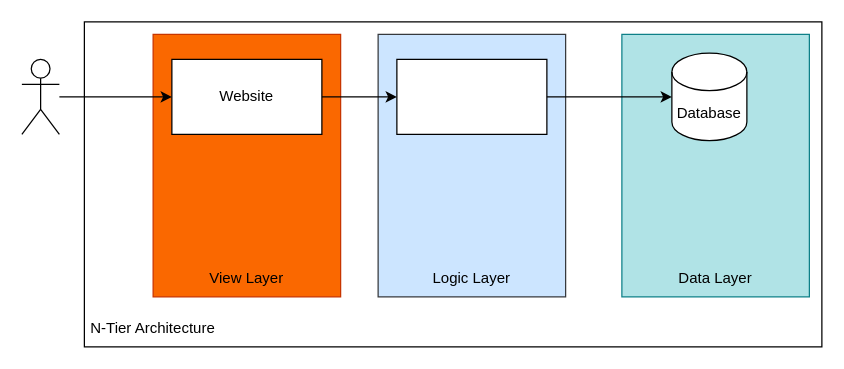
Some shapes in this 844 by 369 pixel diagram are drawn without their labels. The shapes that lost their labels are listed below. From the top down, each one's centre as x and y in pixels, then its label:
At (x=40, y=96): "User".
At (x=471, y=96): "API server".
